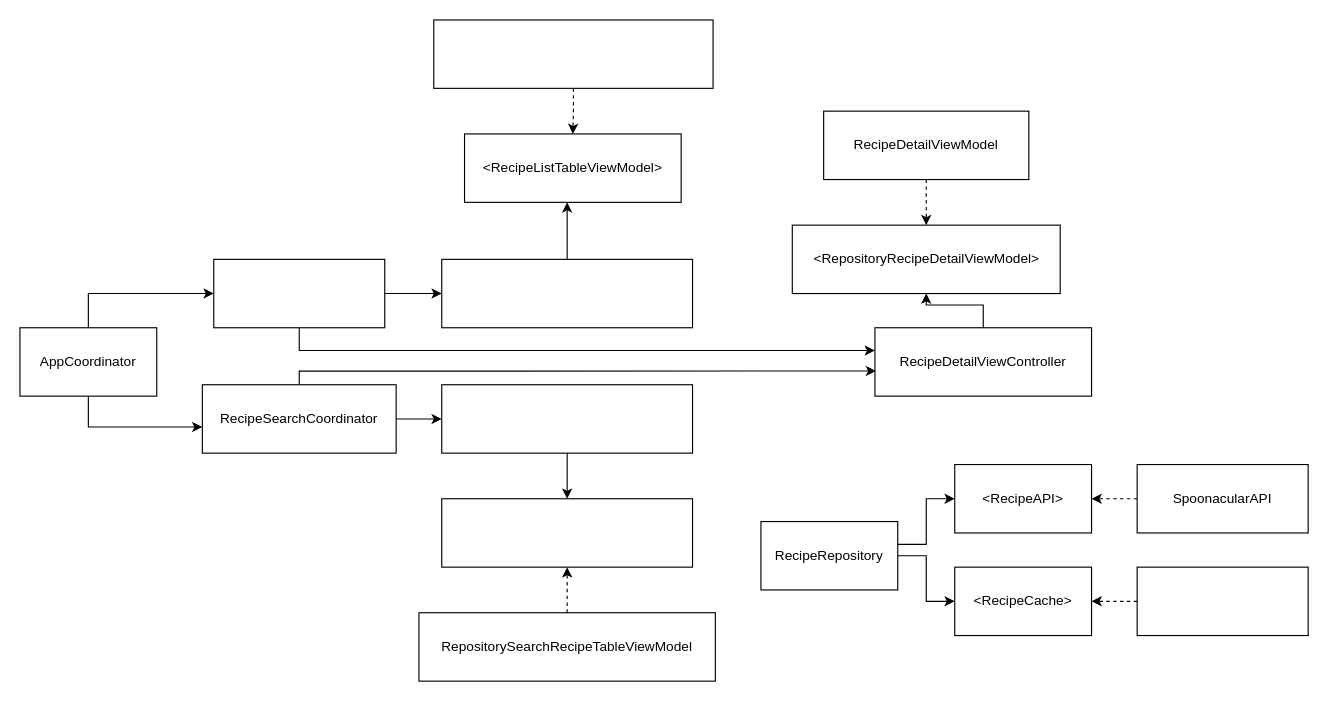
The diagram is 1328 pixels wide and 701 high, and some of its shapes have lost their labels. The centre of each missing label's shape, as x and y in pixels:
<SearchRecipeTableViewModel>: the point at 567,532
InMemoryRecipeCache: the point at 1222,601
RecipeListCoordinator: the point at 299,293
RecipeListTableViewController: the point at 567,293
RepositoryRecipeListTableViewModel: the point at 573,53
SearchRecipeTableViewController: the point at 567,418
